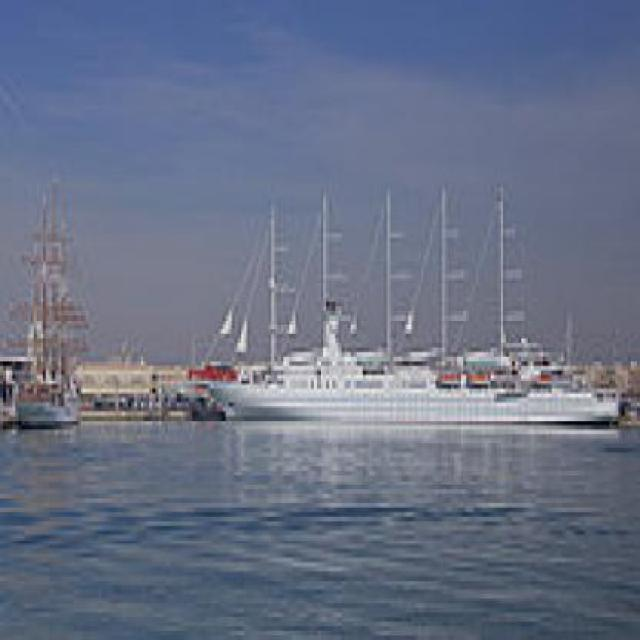cruise: (184, 307, 635, 440)
